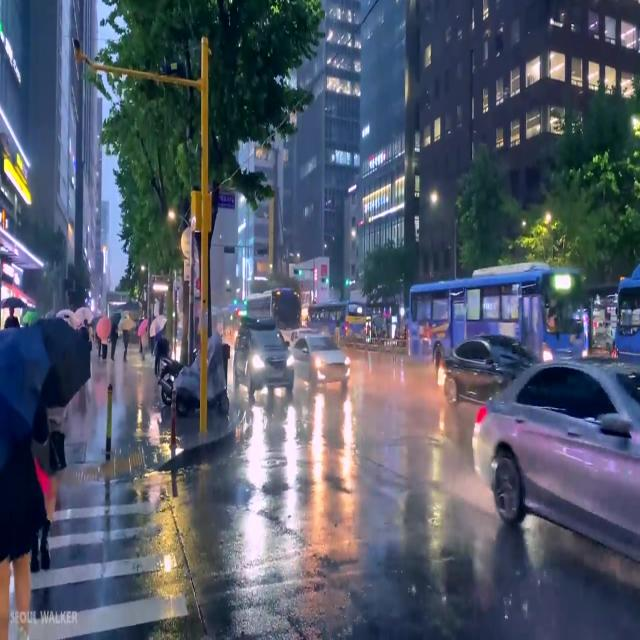Car: (473, 353, 639, 554), (233, 321, 292, 391), (292, 331, 351, 389)
